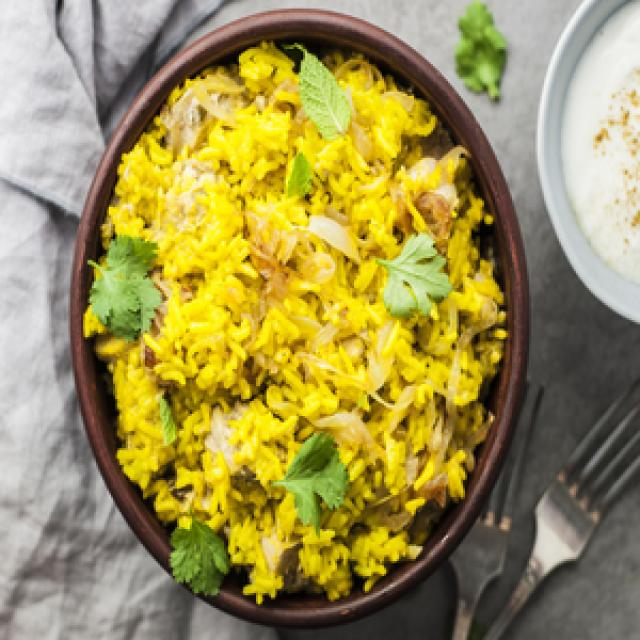chicken biriyani: (84, 28, 524, 626)
